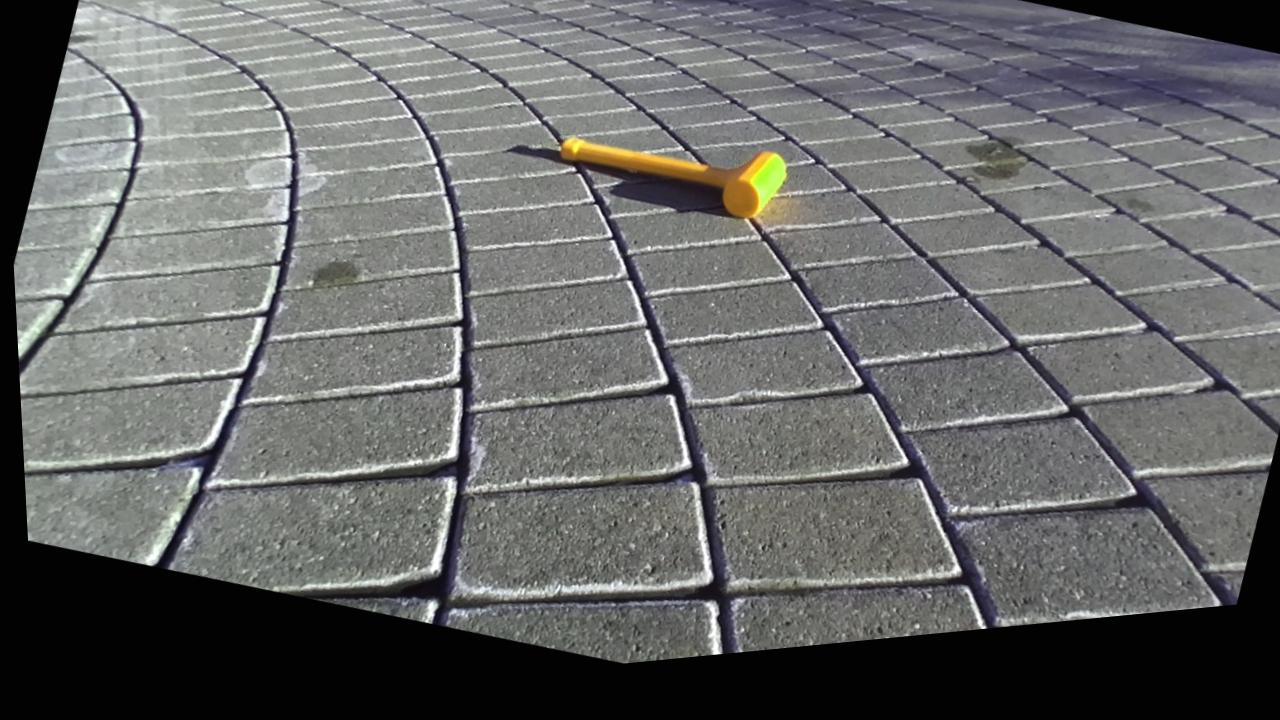mallet: (560, 137, 786, 218)
